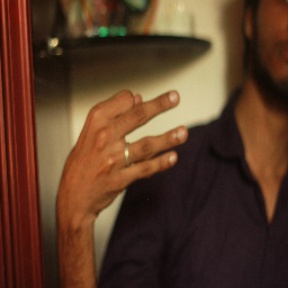K: (56, 88, 189, 195)
